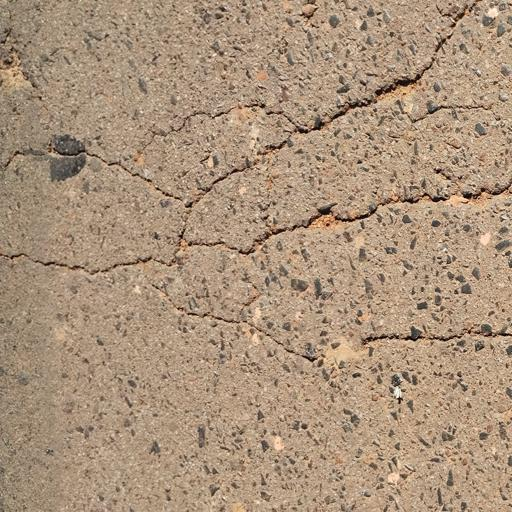GRIETA: (171, 0, 483, 263), (188, 189, 507, 254), (150, 283, 319, 364), (3, 147, 181, 204), (133, 102, 302, 160), (0, 253, 170, 274), (395, 100, 492, 124), (362, 327, 470, 344), (239, 273, 261, 316), (496, 333, 511, 337)
